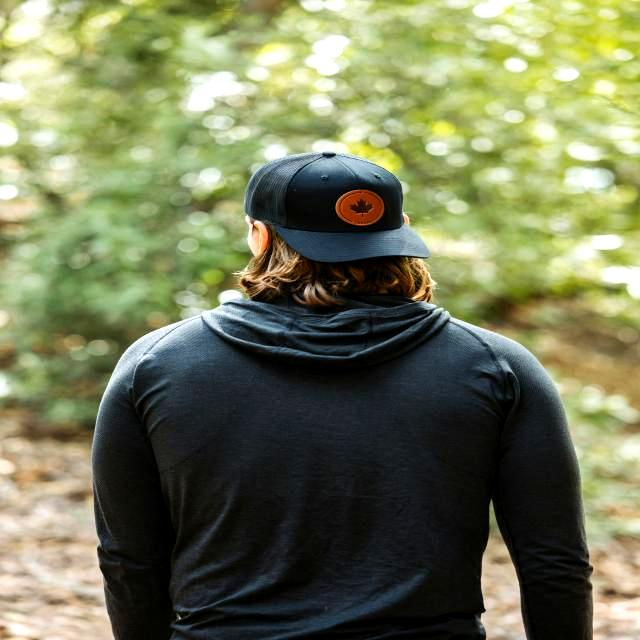no_hard_hat: (244, 152, 429, 262)
person: (93, 153, 593, 640)
